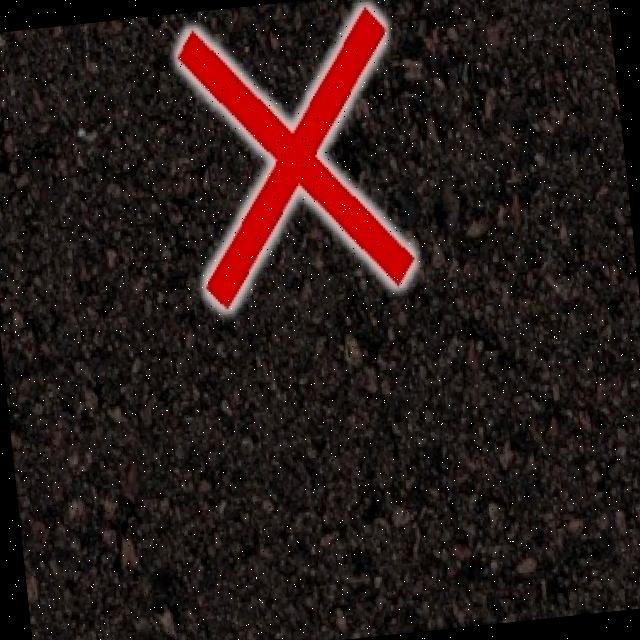x_marker: (173, 3, 416, 309)
